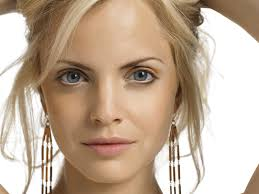s.white: (122, 87, 169, 142)
